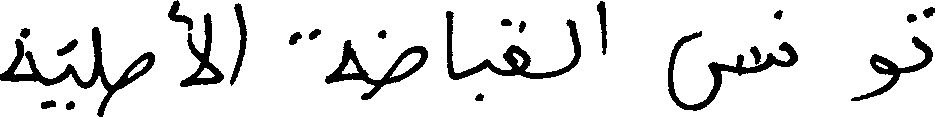ا: (228, 0, 245, 86), (443, 8, 454, 80), (595, 0, 606, 55)
ب: (474, 57, 493, 101)
ة: (288, 27, 365, 101)
ت: (905, 4, 933, 73)
س: (666, 8, 777, 111)
ص: (122, 50, 154, 88)
ض: (376, 28, 428, 94)
ق: (500, 16, 532, 79)
ل: (91, 24, 102, 115), (563, 17, 580, 73)
لا: (166, 0, 223, 88)
ن: (775, 7, 798, 67)
ه: (0, 26, 38, 82)
و: (851, 52, 899, 101)
ي: (37, 37, 75, 111)
